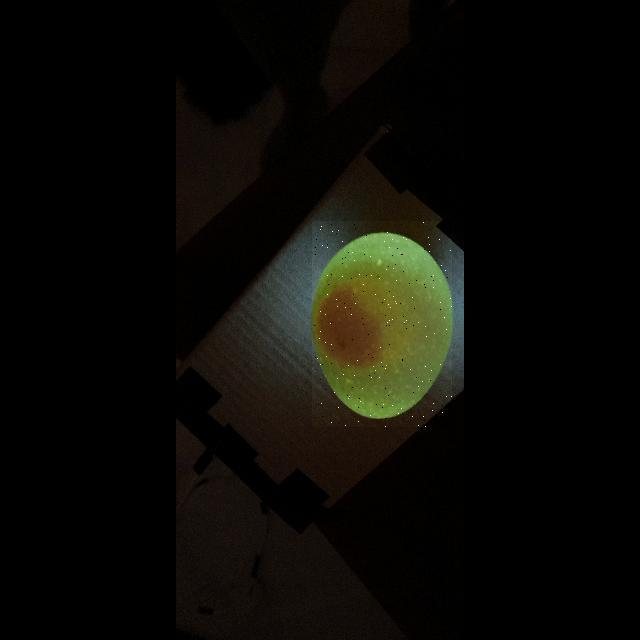Fertile: (312, 221, 452, 427)
